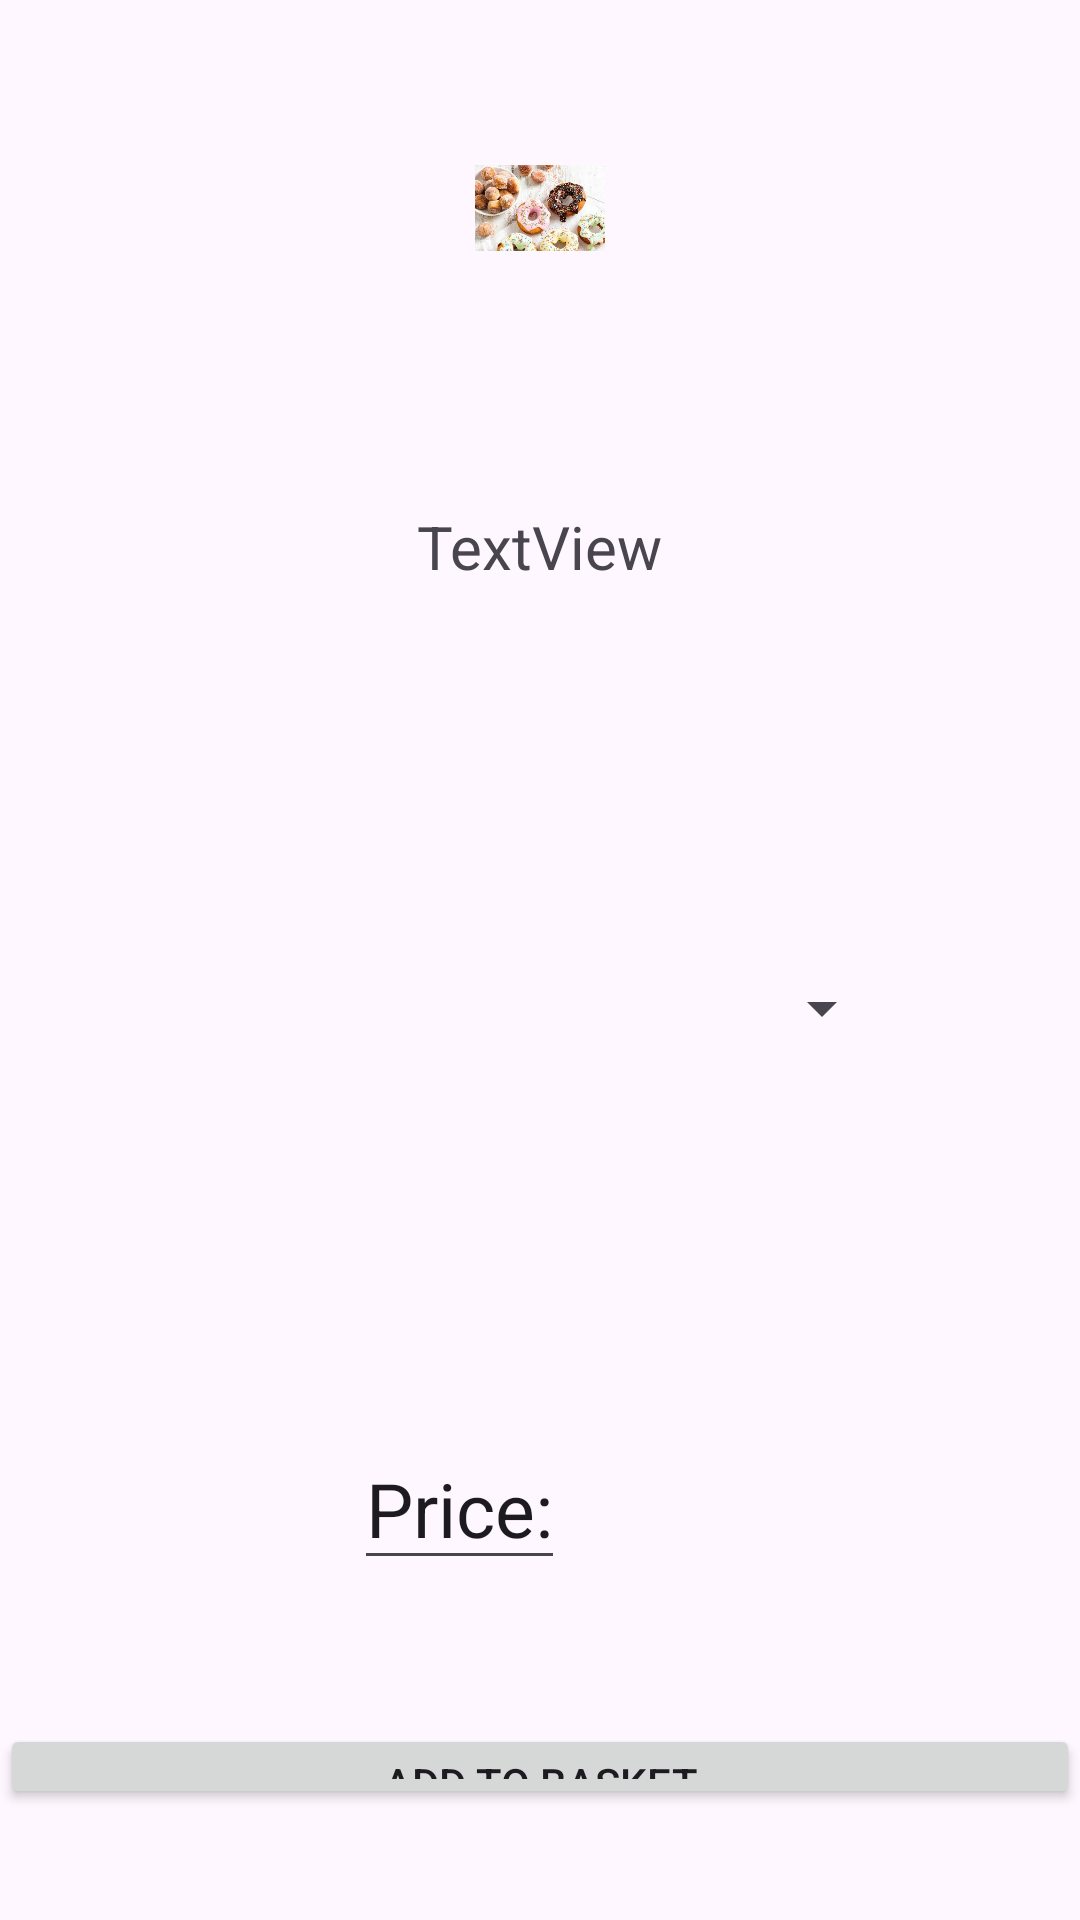

Locate icon controls on the screen. Image size 1080*1920, boxes as (x1, y1, x2, y2).
donutvariety: (475, 165, 605, 251)
